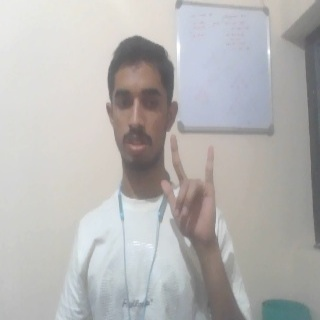Face: (105, 35, 178, 169)
I Love You: (160, 132, 220, 244)
